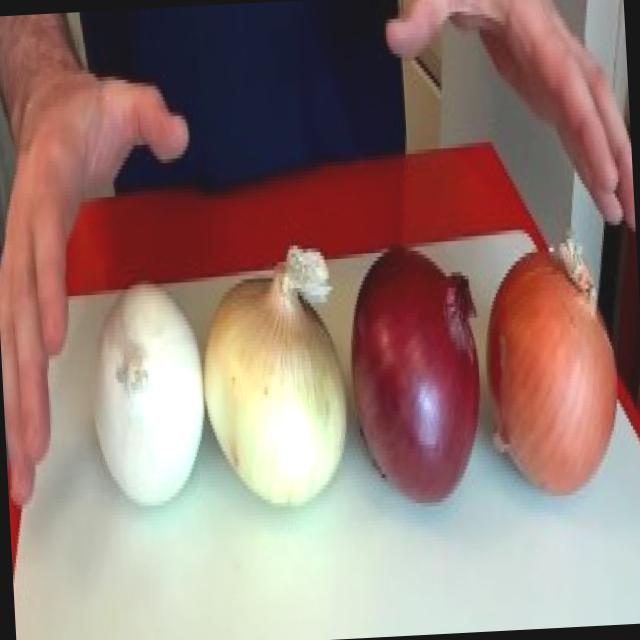onion: (341, 233, 493, 538), (198, 263, 354, 532), (479, 230, 631, 503), (74, 275, 212, 521)
